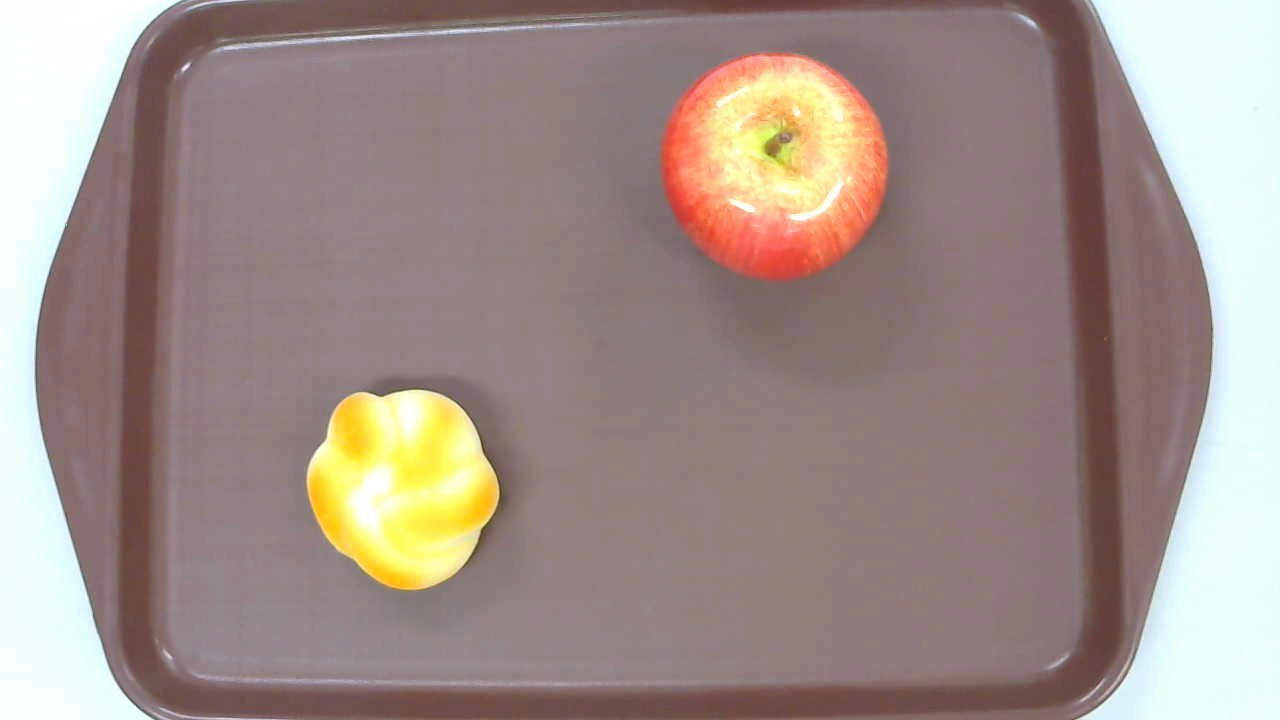red apple: (658, 51, 887, 281)
twist bread: (307, 388, 500, 591)
